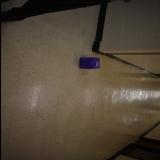cube: (78, 57, 100, 69)
